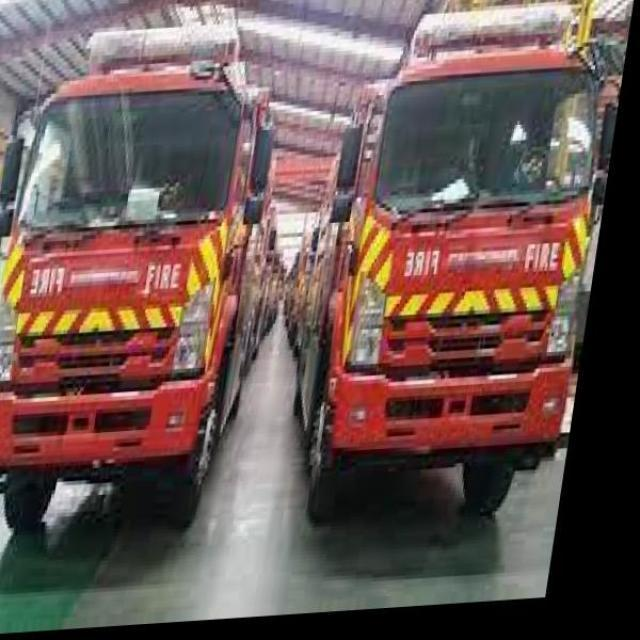emergency: (301, 0, 627, 524), (0, 13, 280, 533)
